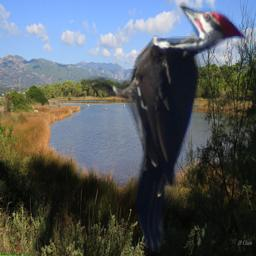Woodpecker: (81, 2, 250, 253)
